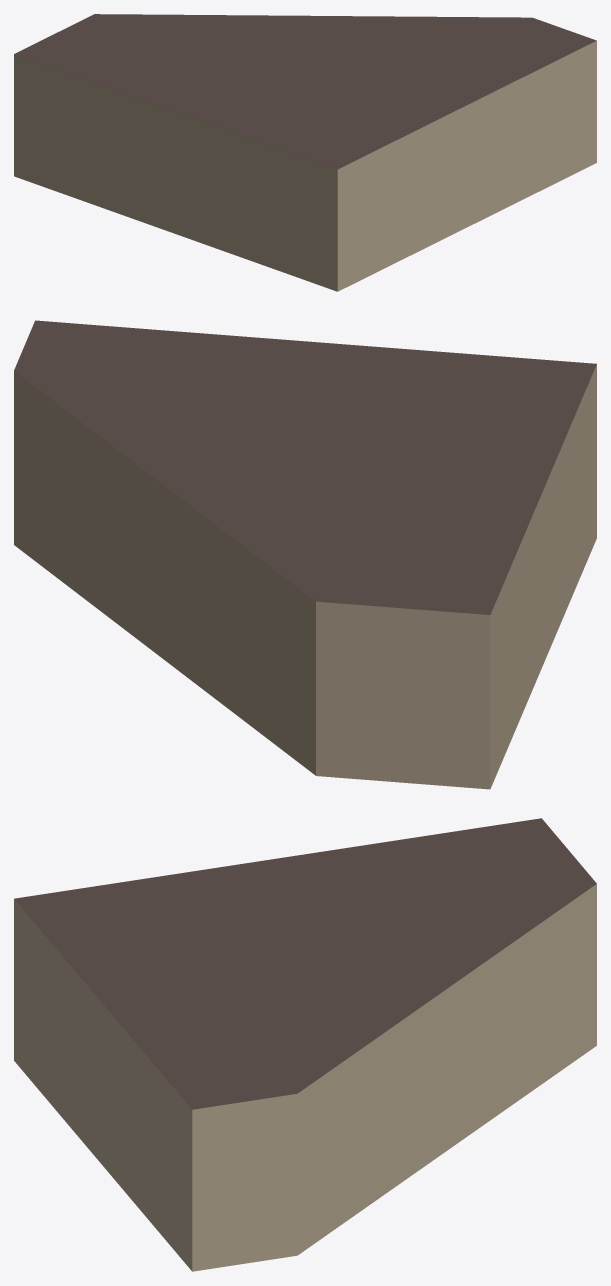
3 renders of one model, top to bottom at view 1: azimuth 30°, elevation 25°; view 2: azimuth 150°, elevation 25°; view 3: azimuth 270°, elevation 25°, orthographic. The views are drawn at different scales.
Parts seen in each view (by area): view 1: HP-w859091099; view 2: HP-w859091099; view 3: HP-w859091099.
Part boxes in pixels (<box>): HP-w859091099: <box>14,14,596,291</box>; HP-w859091099: <box>14,320,596,789</box>; HP-w859091099: <box>14,818,596,1271</box>.
Size of the model in its own units: 34.74 by 9 by 29.36.
